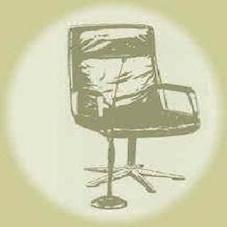chair: (34, 11, 200, 212)
